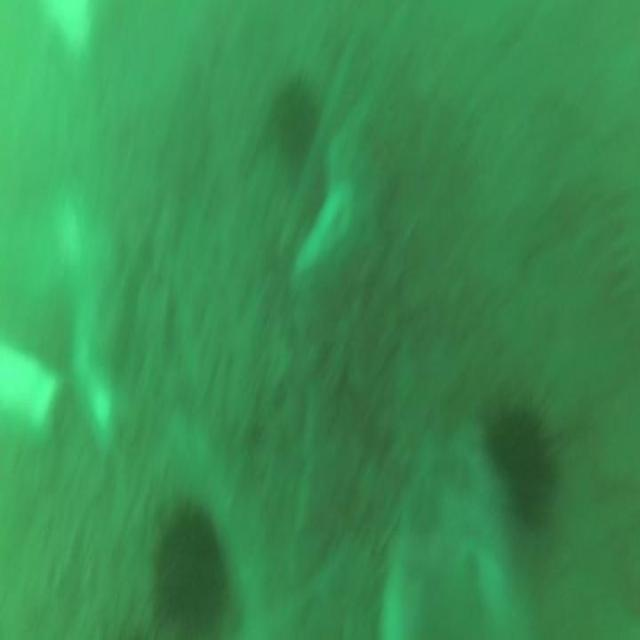echinus: (155, 518, 225, 638), (489, 408, 555, 523), (276, 84, 318, 155)
